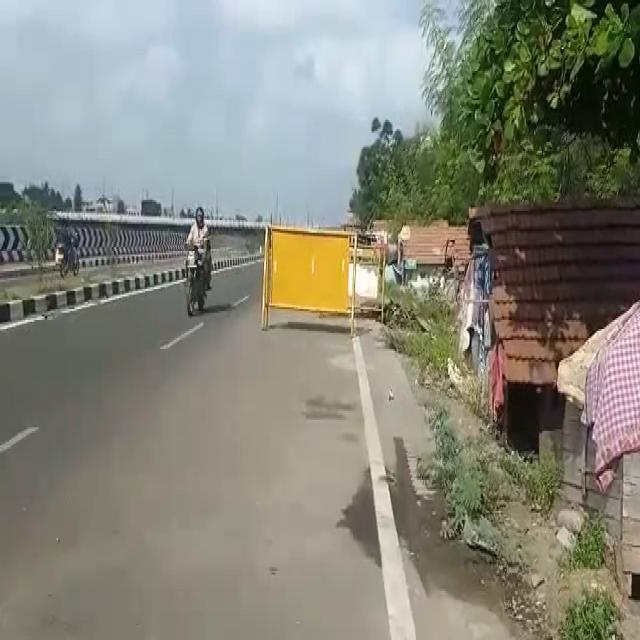fallen_object: (255, 205, 364, 364)
